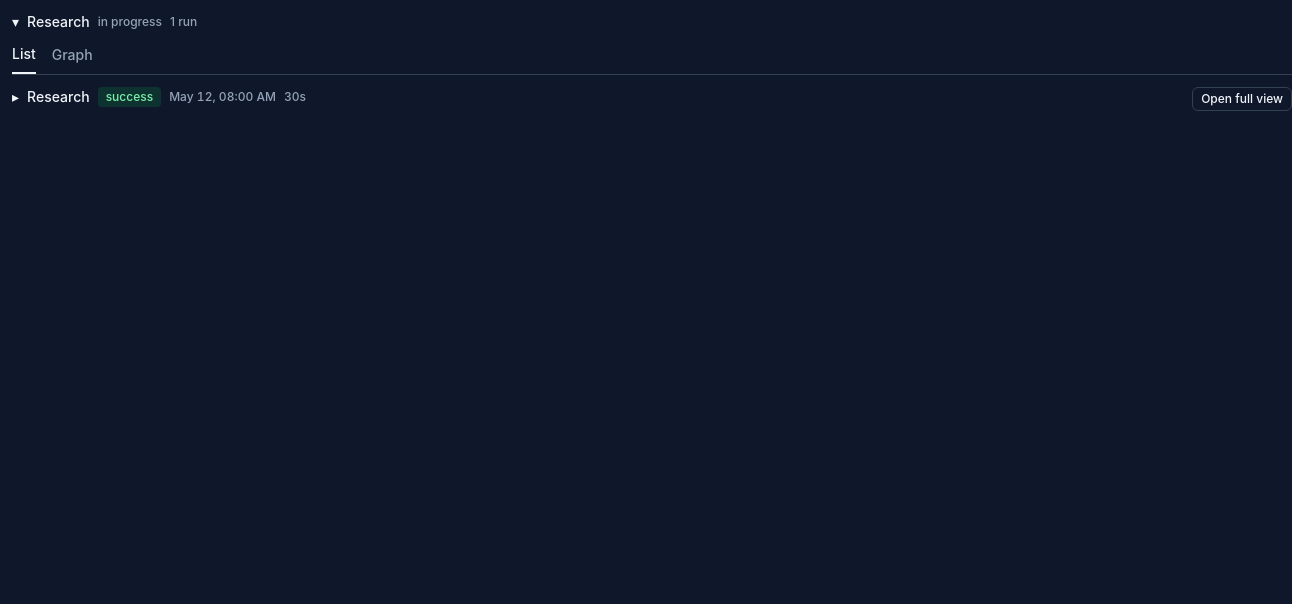
Test: TaskInvocationSection › renders its runs as a list by default, with a Graph tab that mounts the run graph
expect the list item with test id "run-row-inv_001" is shown: met, box [12,87,1291,111]
Click the tab "Graph".
click(72, 59)  # box [52,44,93,74]
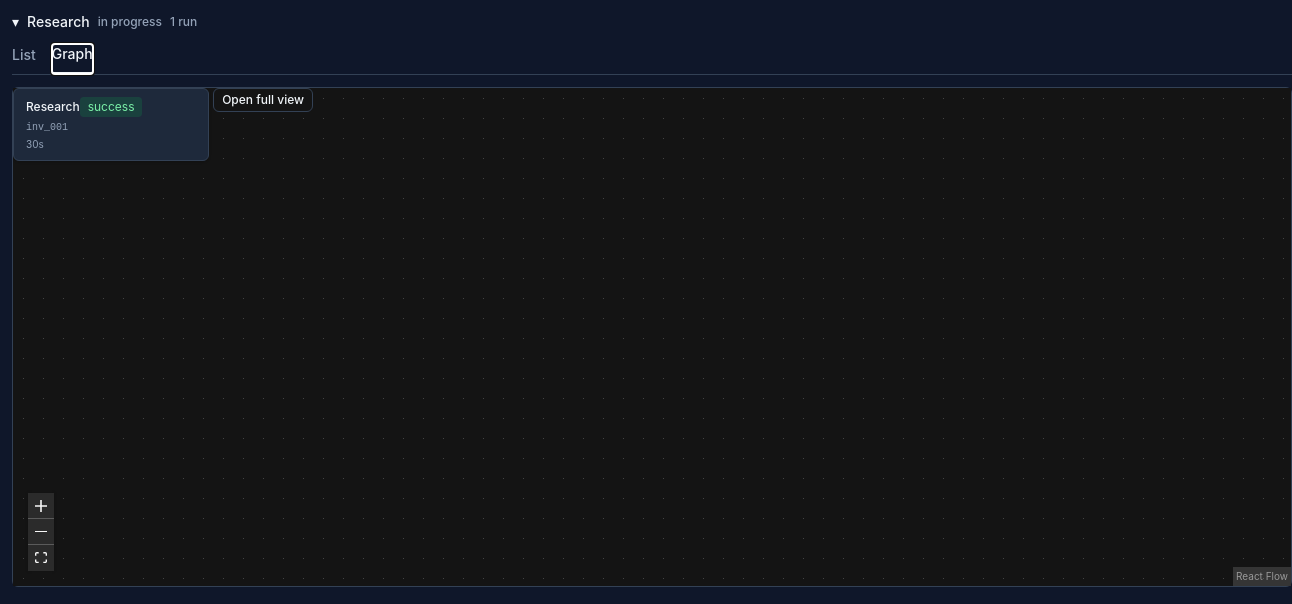
expect the element with test id "invocation-graph" is shown: met
